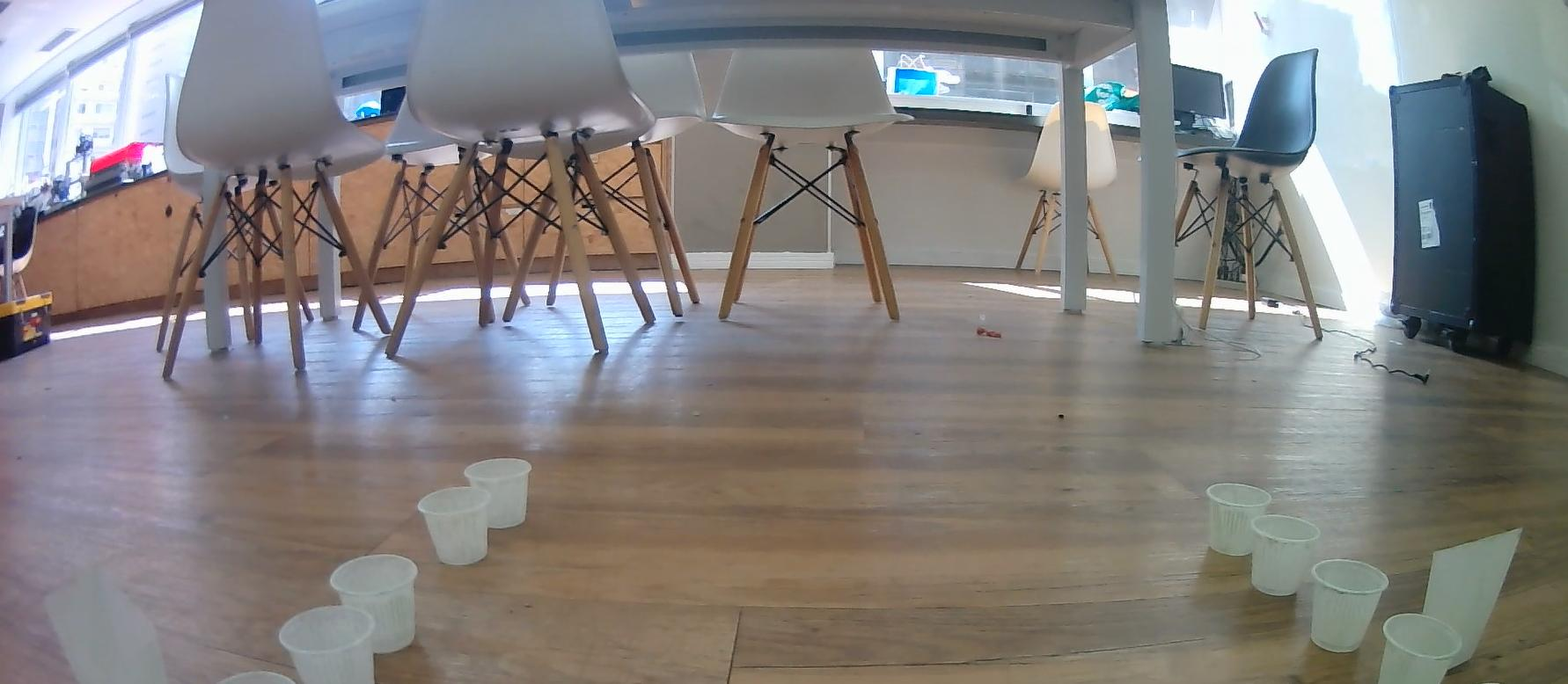erva_daninha: (42, 558, 172, 684), (1420, 528, 1525, 669)
planta: (329, 554, 419, 655), (278, 606, 377, 684), (1309, 558, 1389, 654), (1377, 613, 1464, 684), (1249, 514, 1322, 597), (417, 486, 491, 567), (1205, 482, 1273, 557), (464, 457, 532, 530), (218, 670, 297, 684)
